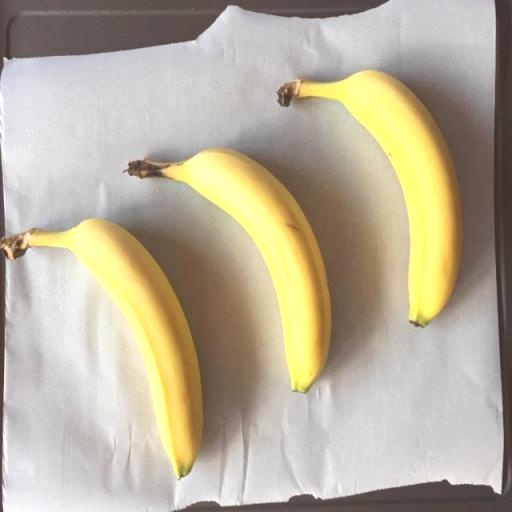fruit: (0, 220, 202, 478), (127, 148, 330, 391), (278, 71, 461, 327)
